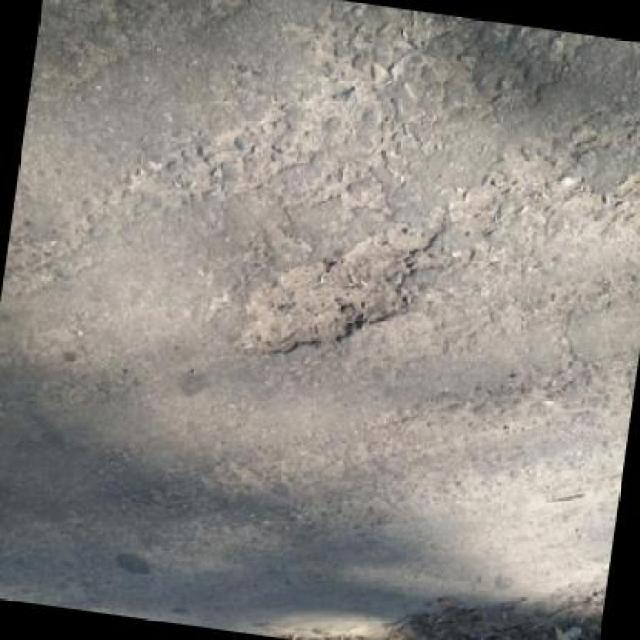pothole: (229, 200, 445, 383)
